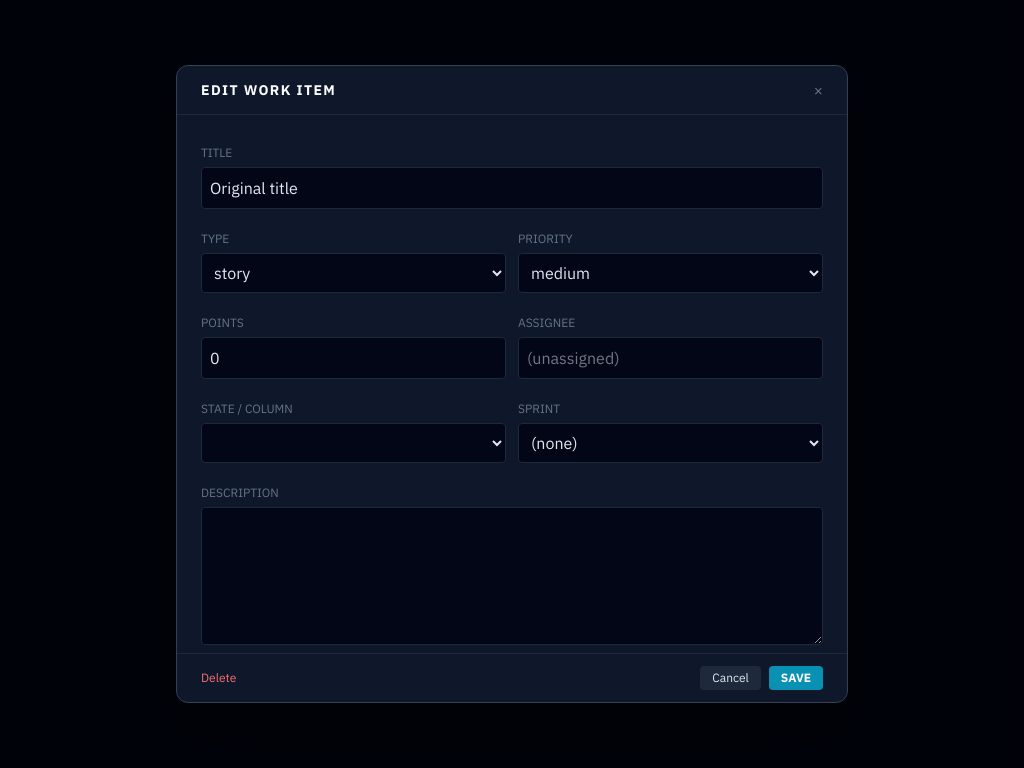
Test: WorkItemEditor close guard › keeps the generic guard fallback during a pending manual save without another write
This screenshot has width=1024, height=768.
Replace the text in the field labelled "Title" with "Pending title" at (512, 188), box [201, 167, 823, 209]
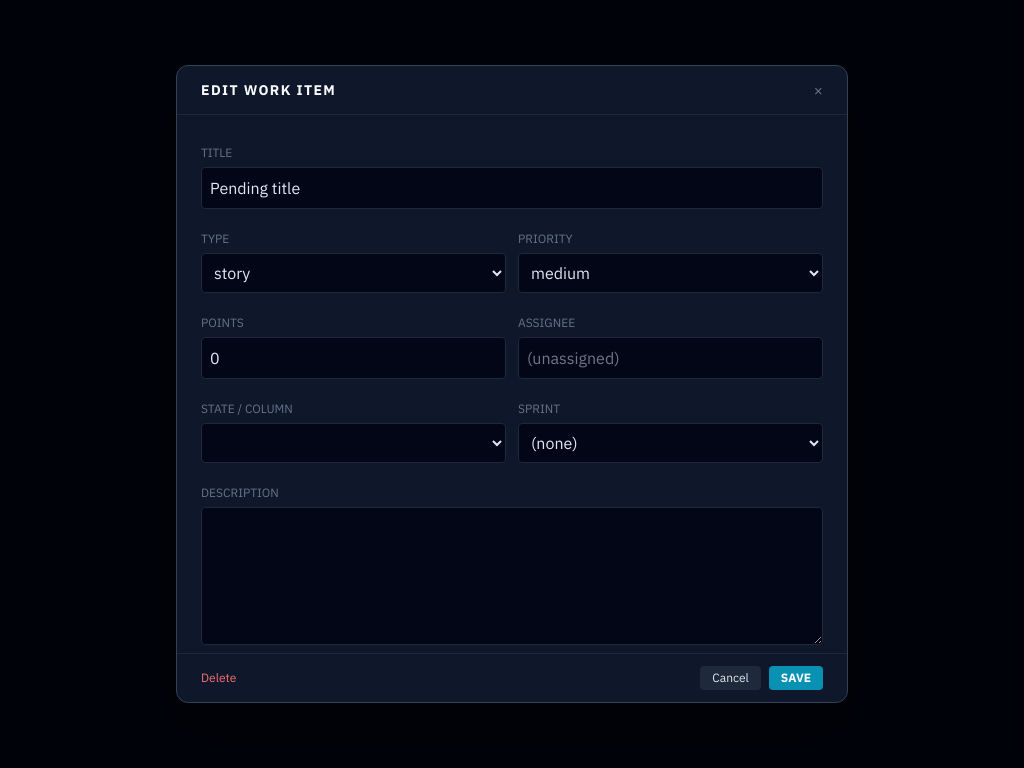
Click the button "Save" at (796, 678), box [769, 666, 823, 690]
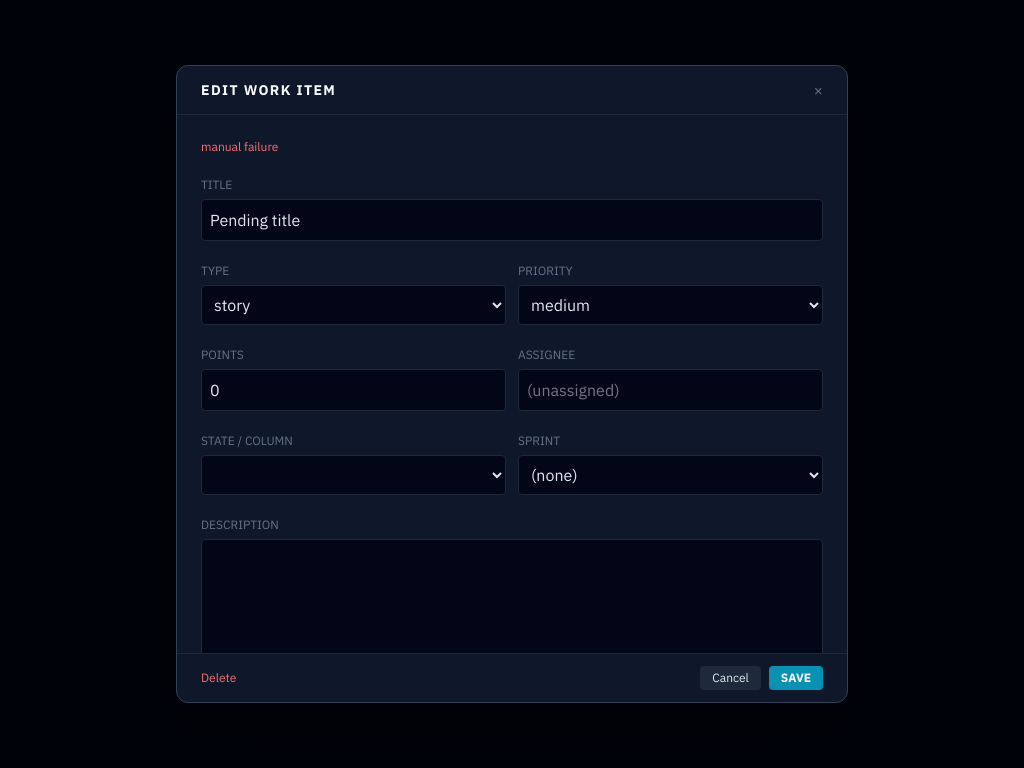
Now the message reads "manual failure", box [201, 139, 278, 154]
